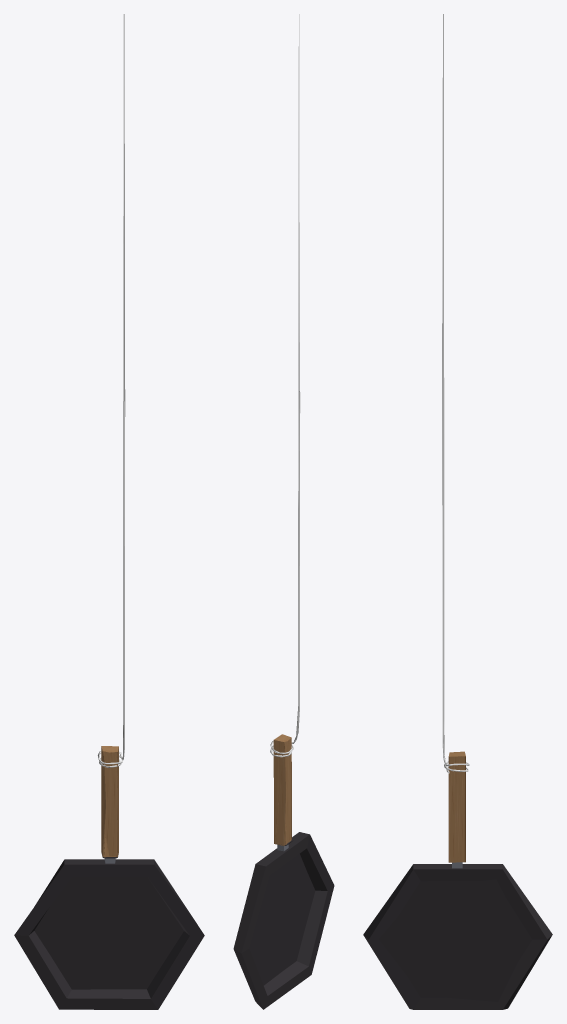
File: Pan.fbx
3 views of the same model, side by side, from view 1: azimuth 90°, elevation 25°; view 2: azimuth 150°, elevation 25°; view 3: azimuth 270°, elevation 25° (orthographic). The views are drawn at different scales.
Visible parts, largest first — view 1: pan, NurbsPath; view 2: pan, NurbsPath; view 3: pan, NurbsPath.
Boxes of the visible parts, left/top/right/bottom form: pan: left=14, top=746, right=204, bottom=1009; NurbsPath: left=97, top=14, right=125, bottom=767; pan: left=233, top=734, right=334, bottom=1009; NurbsPath: left=270, top=14, right=300, bottom=757; pan: left=363, top=751, right=552, bottom=1009; NurbsPath: left=442, top=14, right=469, bottom=773.
Size of the model in its own units: 29 by 1247 by 216.
